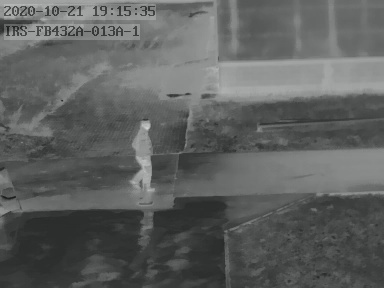person: (128, 118, 156, 191)
